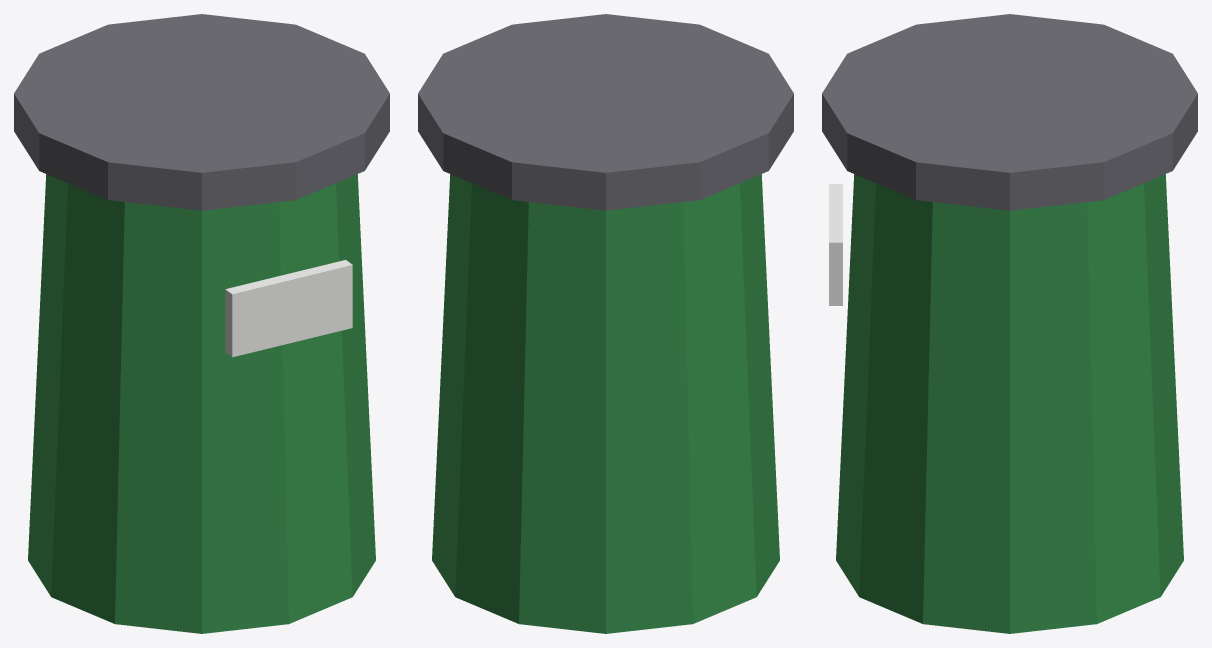
File: p_trash.glb
3 views of the same model, side by side, from view 1: azimuth 30°, elevation 25°; view 2: azimuth 150°, elevation 25°; view 3: azimuth 270°, elevation 25° (orthographic).
Visible parts, largest first — view 1: trash; view 2: trash; view 3: trash.
Boxes of the visible parts, <box> form: trash: <box>14,14,389,633</box>; trash: <box>418,14,793,633</box>; trash: <box>822,14,1197,633</box>.
Bounding box in the file's own units: 0.54 × 0.74 × 0.54.
